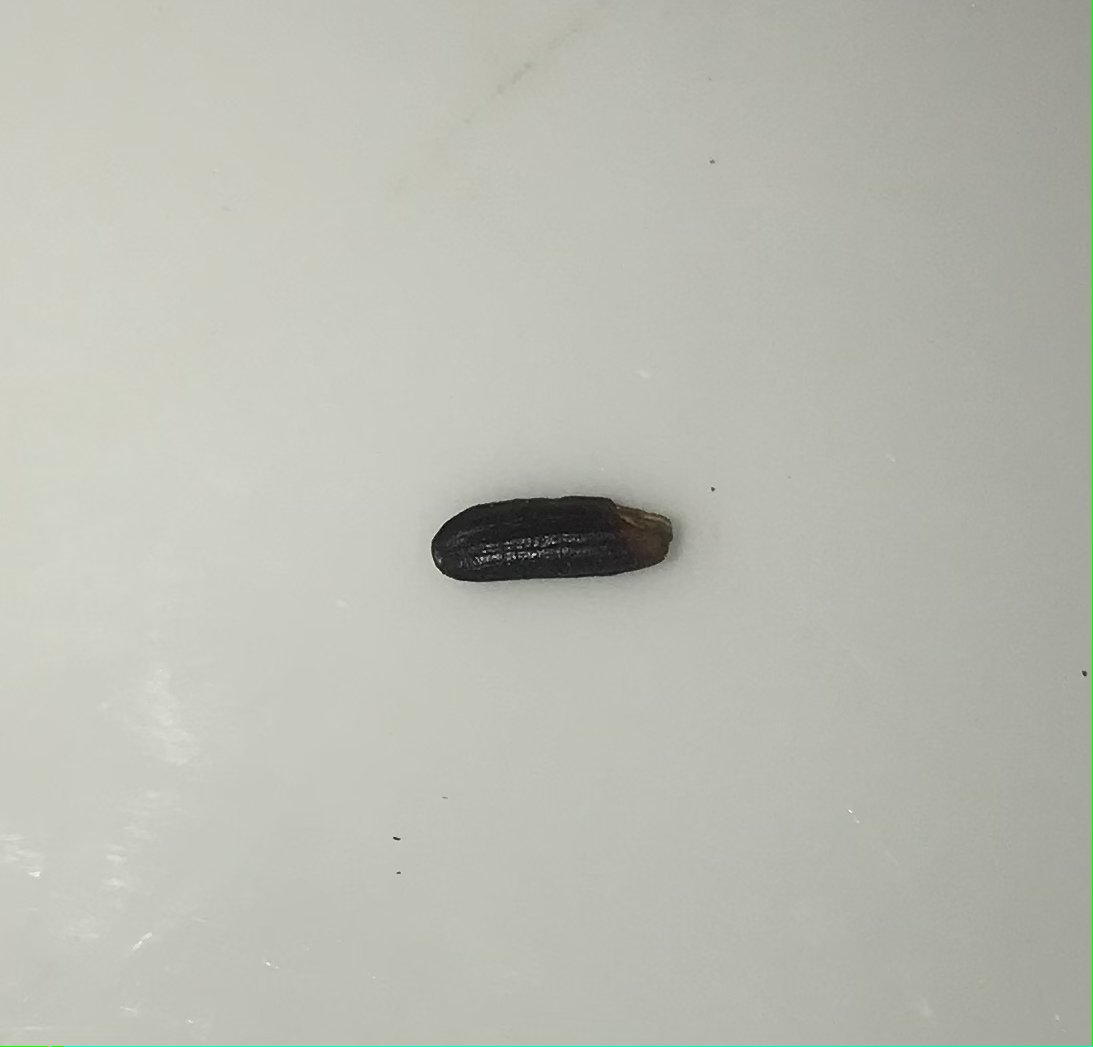Gao lut: (425, 476, 679, 608)
